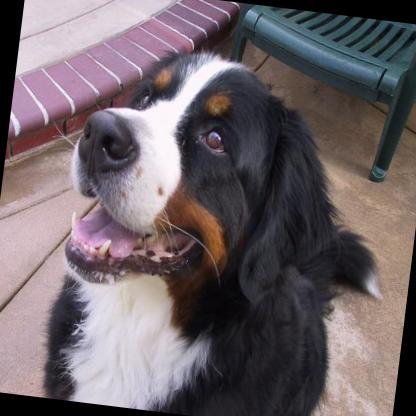Bernese_mountain_dog: (18, 25, 412, 416)
